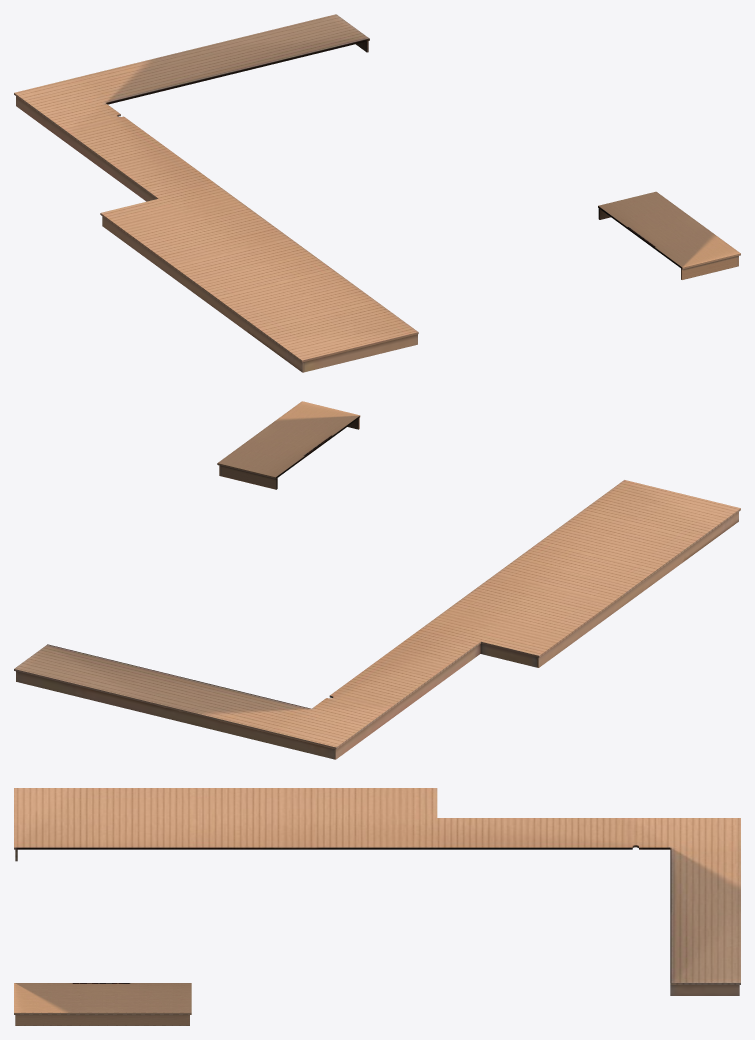
The model's file is Bigger Deck.glb.
3 renders of one model, top to bottom at view 1: azimuth 30°, elevation 25°; view 2: azimuth 150°, elevation 25°; view 3: azimuth 270°, elevation 25°, orthographic. The views are drawn at different scales.
Visible parts, largest first — view 1: Bigger Deck; view 2: Bigger Deck; view 3: Bigger Deck.
Boxes of the visible parts, bbox=[...] form: Bigger Deck: bbox=[14, 14, 740, 372]; Bigger Deck: bbox=[14, 401, 740, 759]; Bigger Deck: bbox=[14, 788, 740, 1025].
Size of the model in its own units: 3.61 by 0.1026 by 4.94.
2 materials, 2 textured.
